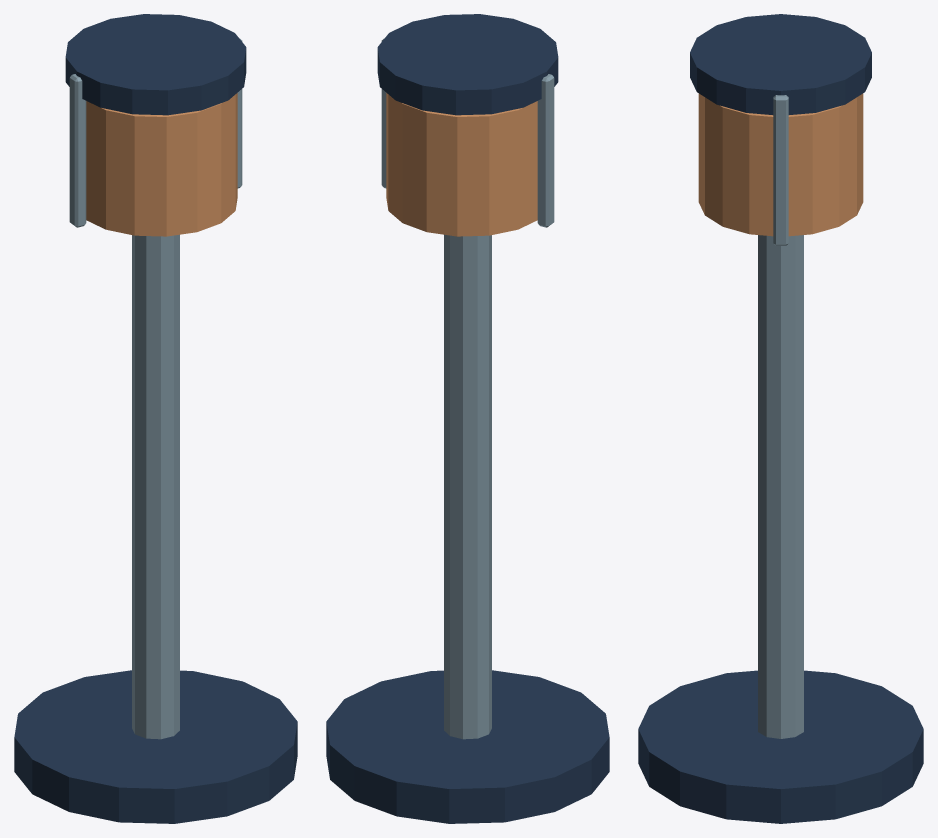
Rendered from floor_warning_beacon.glb.
3 views of the same model, side by side, from view 1: azimuth 30°, elevation 25°; view 2: azimuth 150°, elevation 25°; view 3: azimuth 270°, elevation 25° (orthographic).
Visible parts, largest first — view 1: beacon_base, beacon_post, beacon_light, beacon_cap, beacon_guard (×2); view 2: beacon_base, beacon_post, beacon_light, beacon_cap, beacon_guard (×2); view 3: beacon_base, beacon_post, beacon_light, beacon_cap, beacon_guard.
Part boxes in pixels (x1,y1,x2,y2): beacon_base: [14, 670, 297, 823]; beacon_post: [132, 234, 179, 739]; beacon_light: [86, 93, 237, 236]; beacon_cap: [65, 14, 246, 115]; beacon_guard (×2): [69, 38, 242, 227]; beacon_base: [326, 670, 609, 823]; beacon_post: [444, 234, 491, 739]; beacon_light: [386, 93, 537, 236]; beacon_cap: [377, 14, 558, 115]; beacon_guard (×2): [381, 38, 554, 227]; beacon_base: [638, 670, 923, 823]; beacon_post: [758, 235, 803, 738]; beacon_light: [698, 93, 863, 236]; beacon_cap: [690, 14, 871, 114]; beacon_guard: [773, 95, 788, 245].
Bounding box in the file's own units: 0.26 × 0.715 × 0.26.
